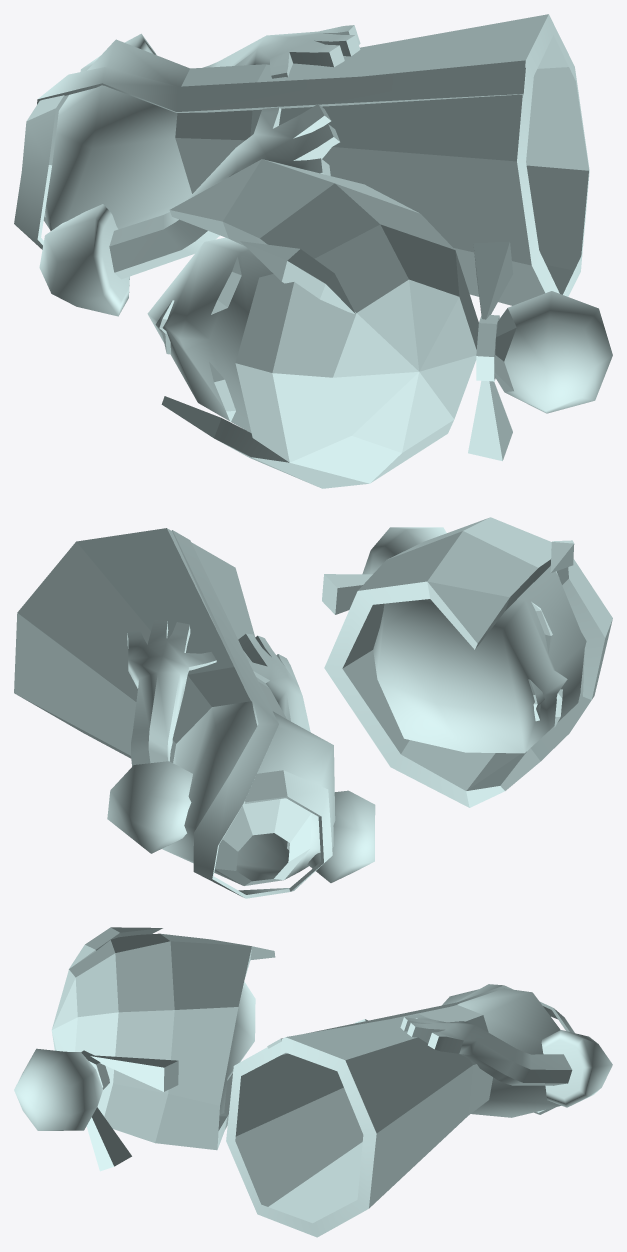
File: ghost.obj
The picture shows the model from 3 angles, top to bottom: view 1: azimuth 30°, elevation 25°; view 2: azimuth 150°, elevation 25°; view 3: azimuth 270°, elevation 25°; orthographic projection. The views are drawn at different scales.
Visible parts, largest first — view 1: Final_Scene_Dragon_Shop_By_Nive_II:Chinita Final_Scene_Dragon_Sh; view 2: Final_Scene_Dragon_Shop_By_Nive_II:Chinita Final_Scene_Dragon_Sh; view 3: Final_Scene_Dragon_Shop_By_Nive_II:Chinita Final_Scene_Dragon_Sh.
Part boxes in pixels (x1,y1,x2,y2): Final_Scene_Dragon_Shop_By_Nive_II:Chinita Final_Scene_Dragon_Sh: (14,14,612,488); Final_Scene_Dragon_Shop_By_Nive_II:Chinita Final_Scene_Dragon_Sh: (14,517,612,898); Final_Scene_Dragon_Shop_By_Nive_II:Chinita Final_Scene_Dragon_Sh: (14,927,612,1237).
Bounding box in the file's own units: 1.28 × 0.6642 × 1.76.
